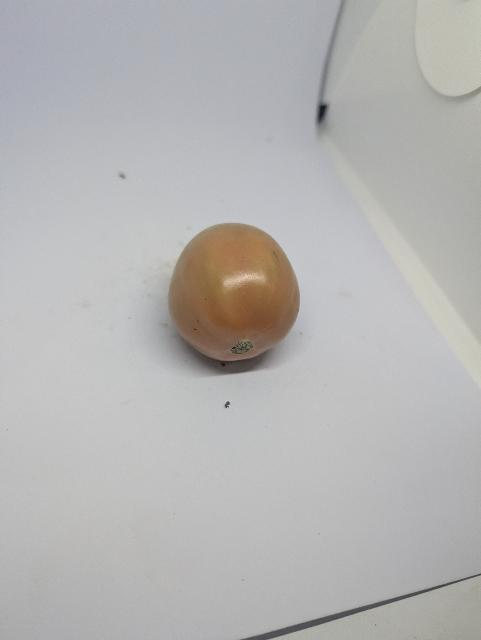turning: (169, 223, 300, 361)
